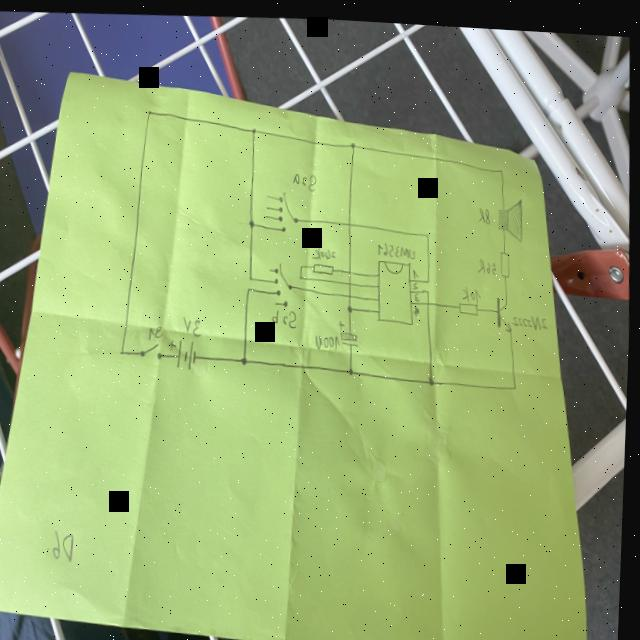capacitor: (337, 313, 363, 347)
crossover: (348, 215, 354, 223), (427, 294, 433, 302), (348, 288, 355, 294), (349, 263, 354, 270), (349, 276, 353, 282)
junction: (120, 345, 129, 355), (249, 214, 257, 225), (243, 352, 251, 362), (350, 362, 357, 371), (248, 281, 254, 290), (349, 300, 355, 308), (351, 136, 357, 144), (252, 123, 258, 131), (431, 372, 437, 380), (147, 106, 153, 114), (426, 226, 432, 234), (515, 377, 520, 384), (250, 272, 255, 279), (500, 161, 505, 167), (427, 283, 432, 289), (301, 259, 305, 266), (301, 270, 305, 277), (429, 273, 433, 278)
resistor: (458, 292, 483, 312), (501, 243, 513, 272), (314, 257, 336, 271)
source: (170, 335, 200, 370)
switch: (266, 185, 302, 230), (269, 256, 296, 305), (143, 338, 165, 358)
text: (378, 236, 419, 255), (513, 306, 551, 325), (273, 304, 301, 326), (292, 167, 320, 188), (316, 328, 343, 348), (185, 312, 205, 335), (462, 278, 484, 298), (312, 241, 338, 257), (478, 251, 499, 269), (148, 320, 166, 340), (479, 200, 492, 219), (416, 299, 422, 312), (414, 263, 420, 274), (416, 286, 422, 297), (414, 276, 421, 284)
transistor: (494, 288, 516, 327)
